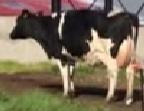cow: (8, 11, 138, 105)
